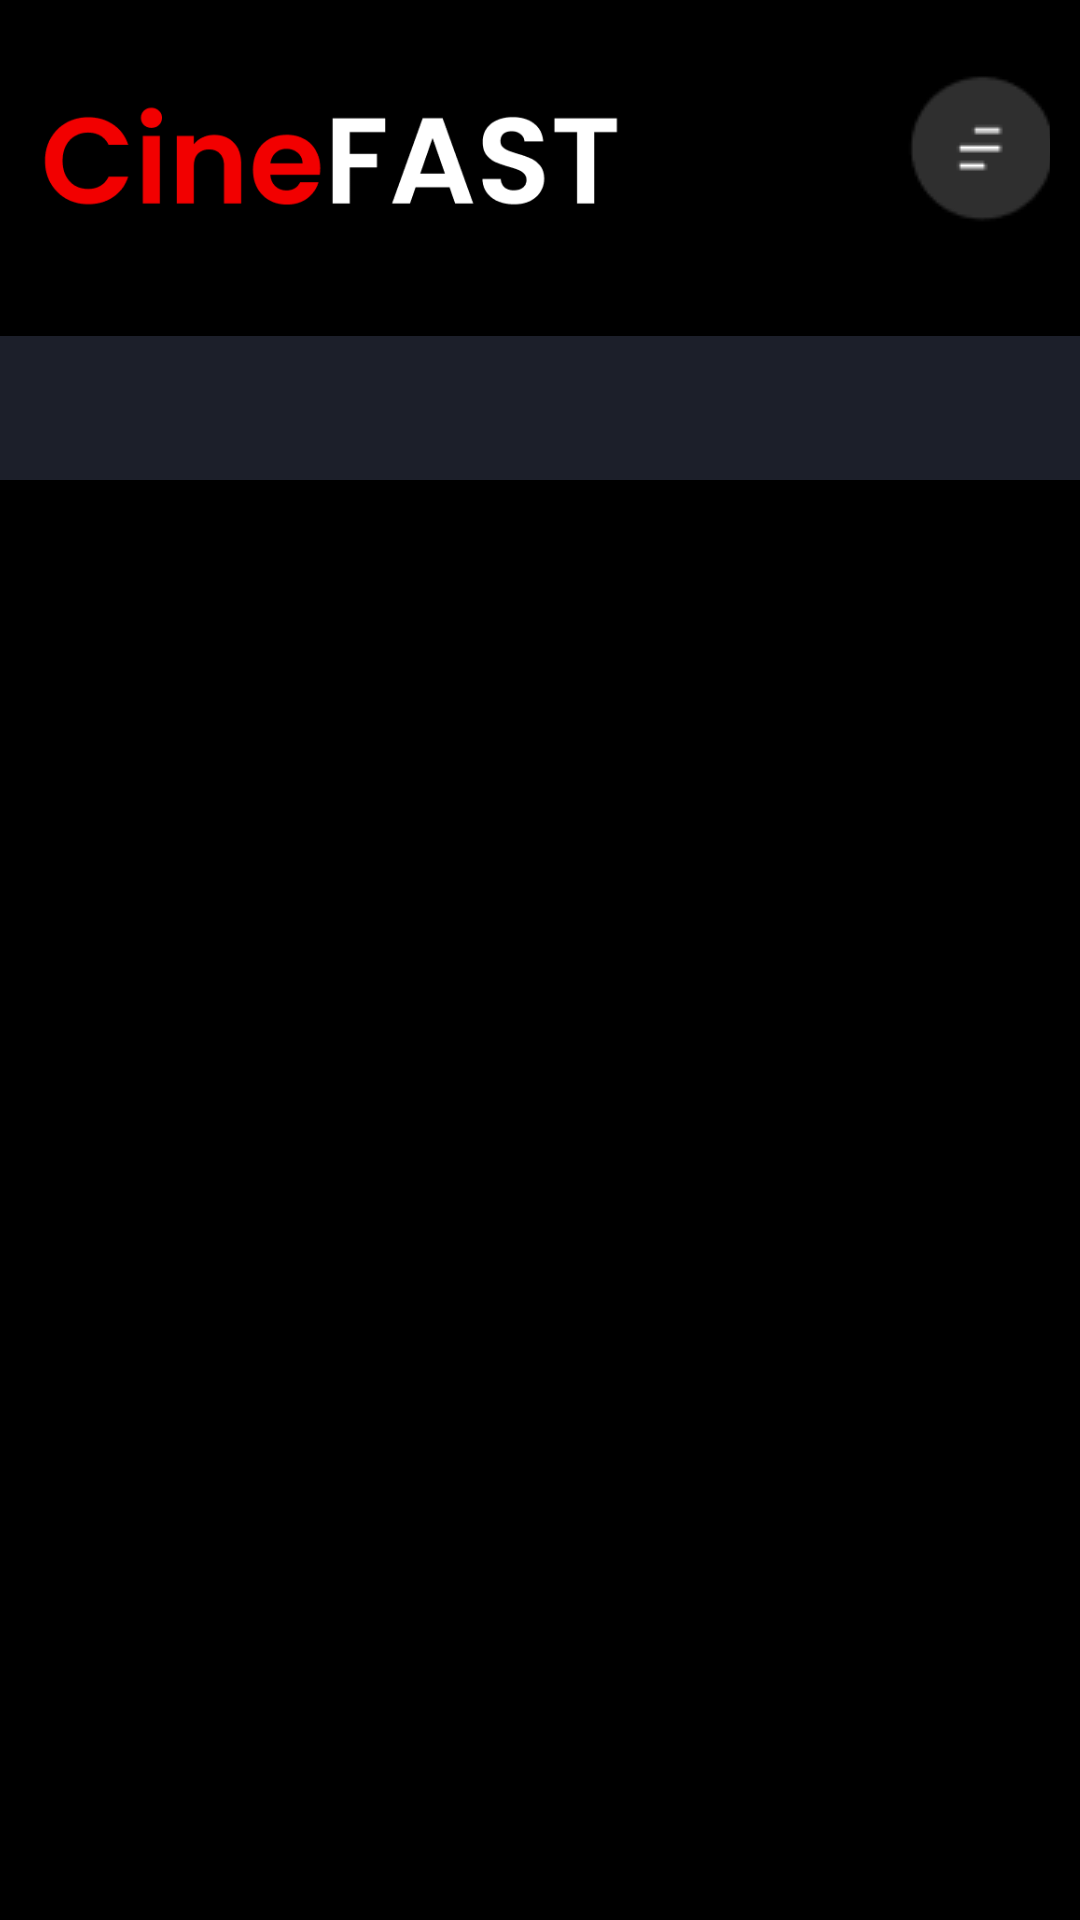

Icon bounding boxes for this 1080px×1920px phone screenshot, format [x1, y1, x2, y2]:
menuticket: [912, 77, 1050, 219]
